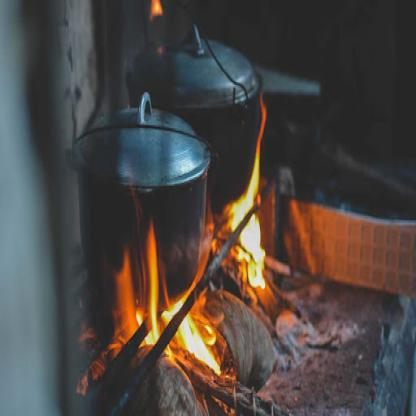fire: (115, 224, 223, 374), (223, 109, 274, 303)
